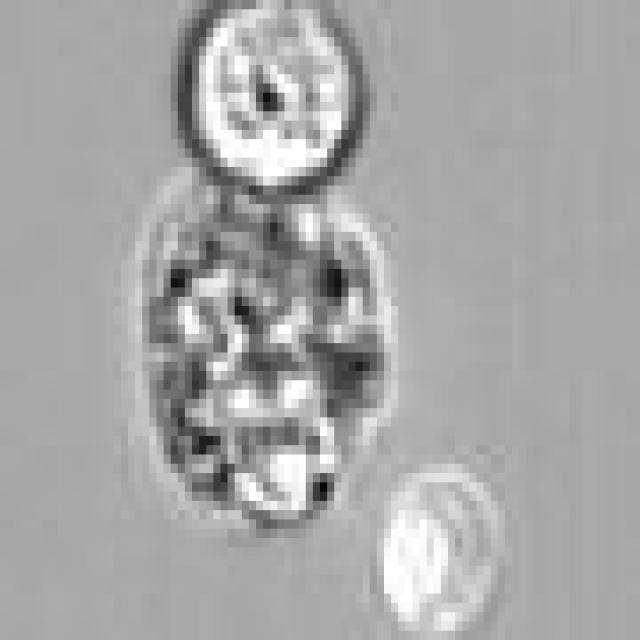Cancer Cell: (142, 186, 398, 528), (178, 9, 356, 186)
WBC: (370, 454, 512, 630)
